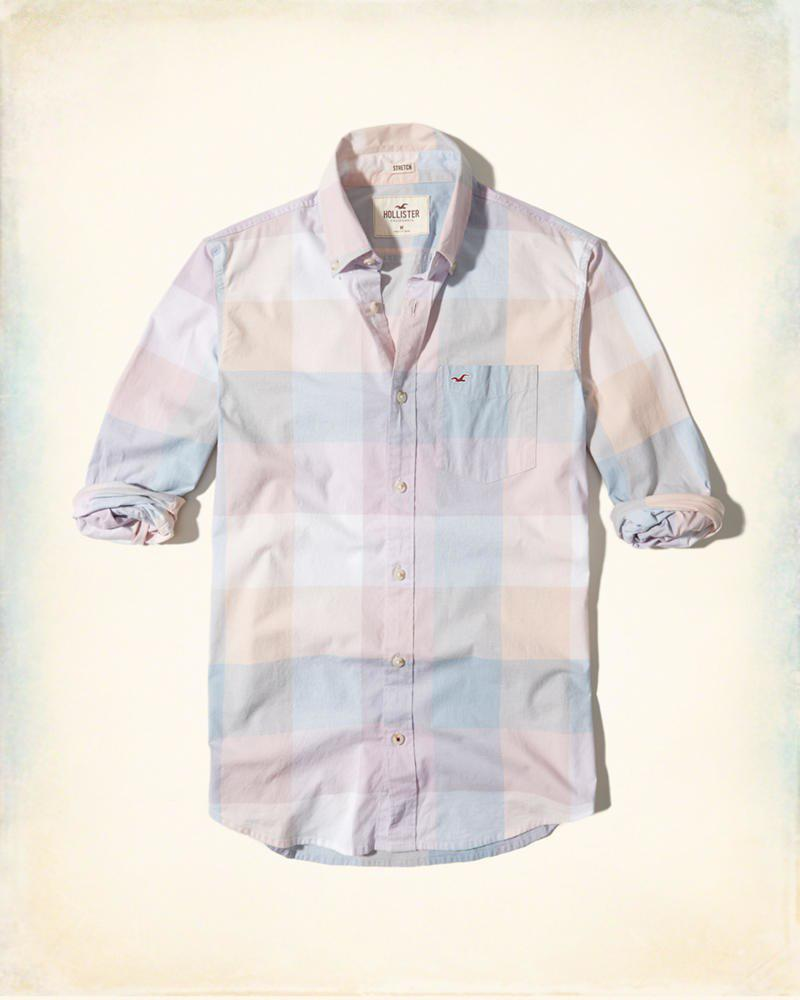teeshirt: (68, 109, 739, 850)
